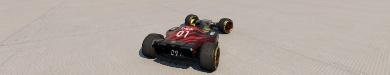Car: (141, 13, 233, 71)
